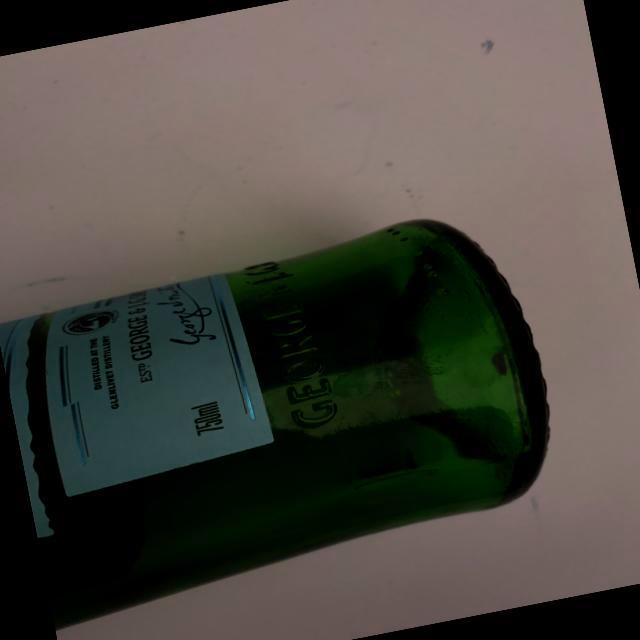glass: (0, 187, 596, 640)
